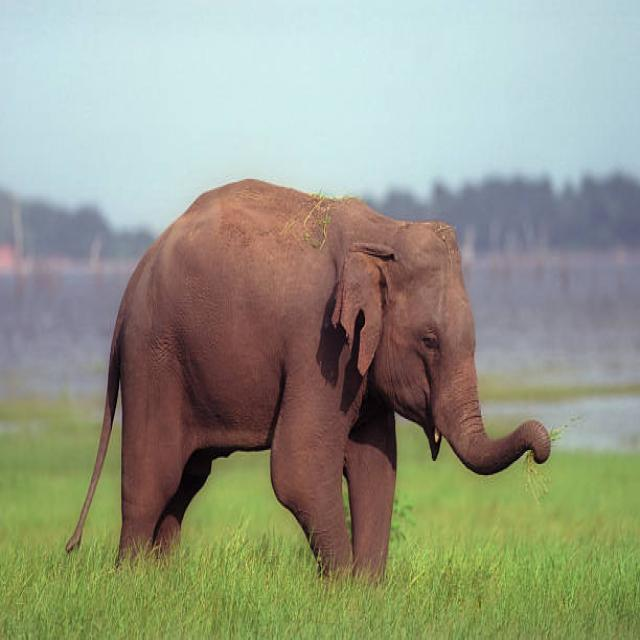Elephant: (71, 178, 561, 584)
